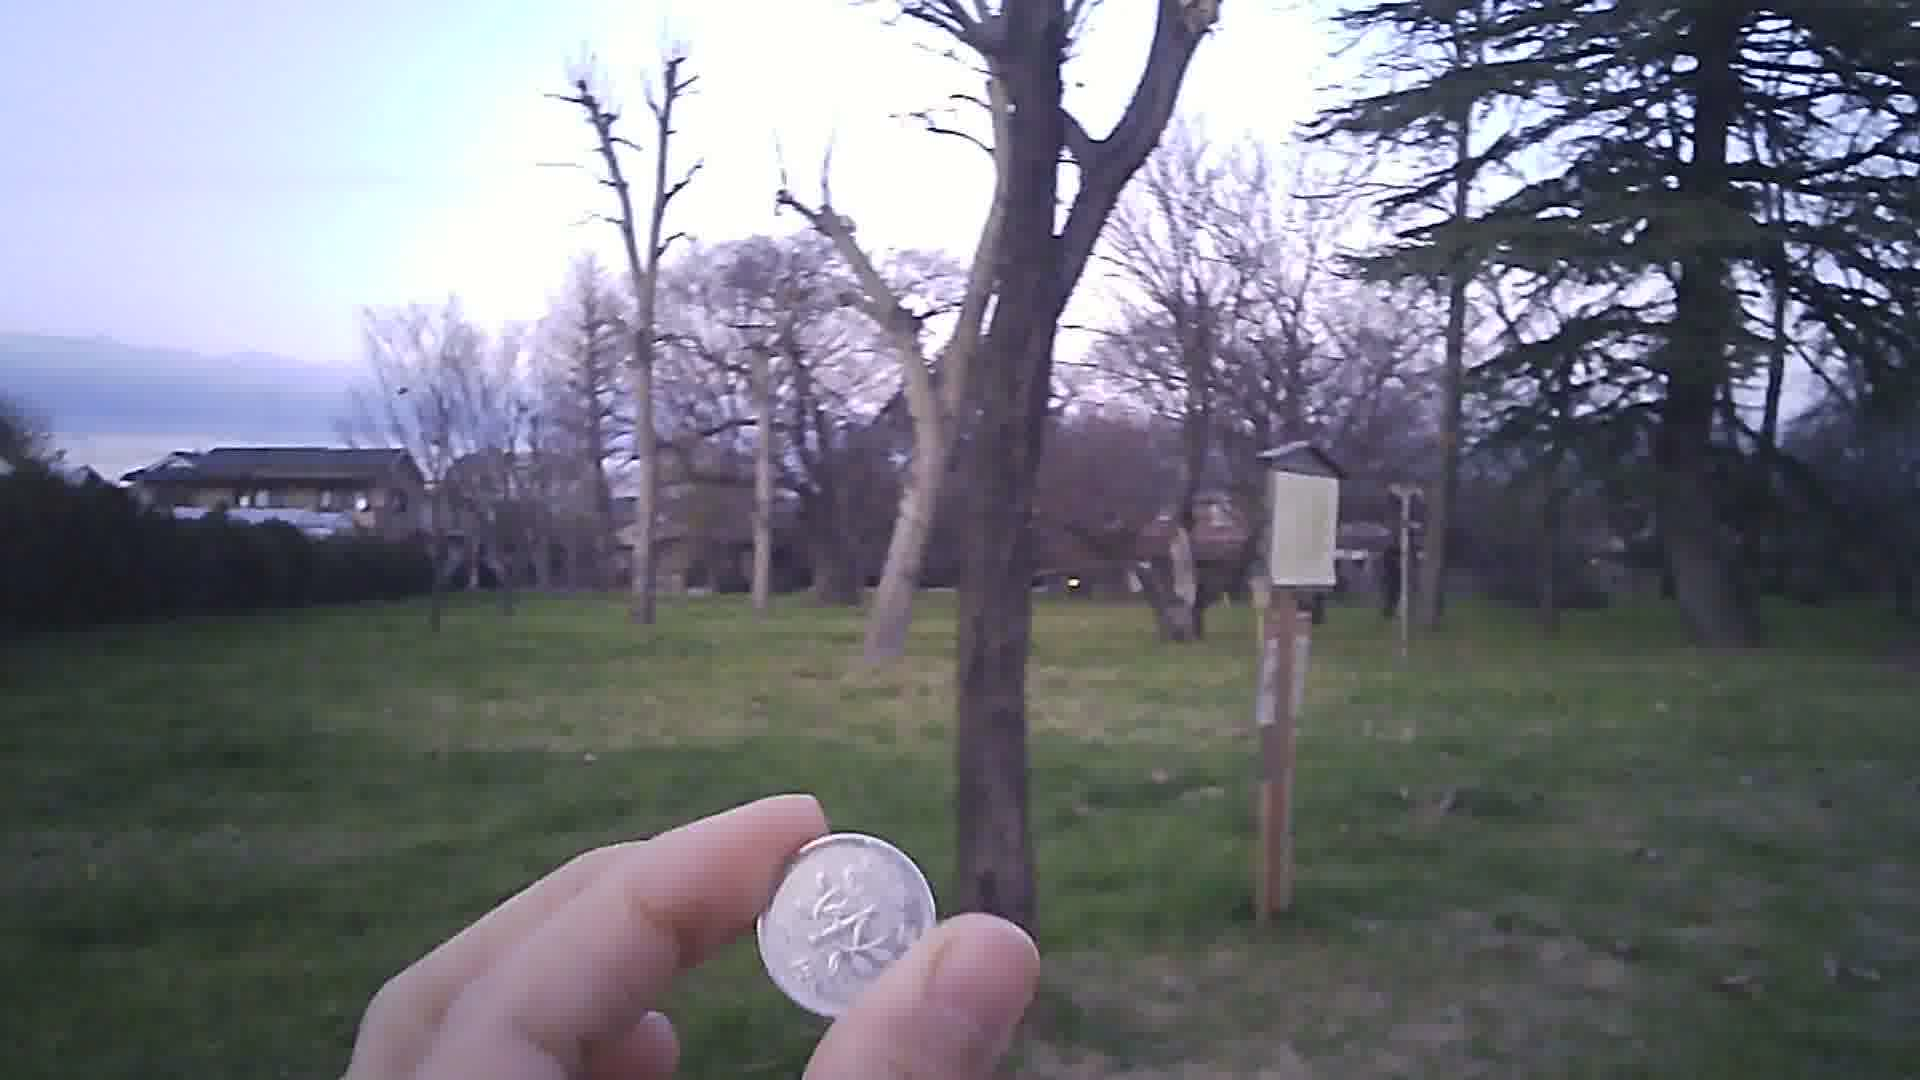1 Yen: (745, 825, 942, 1022)
